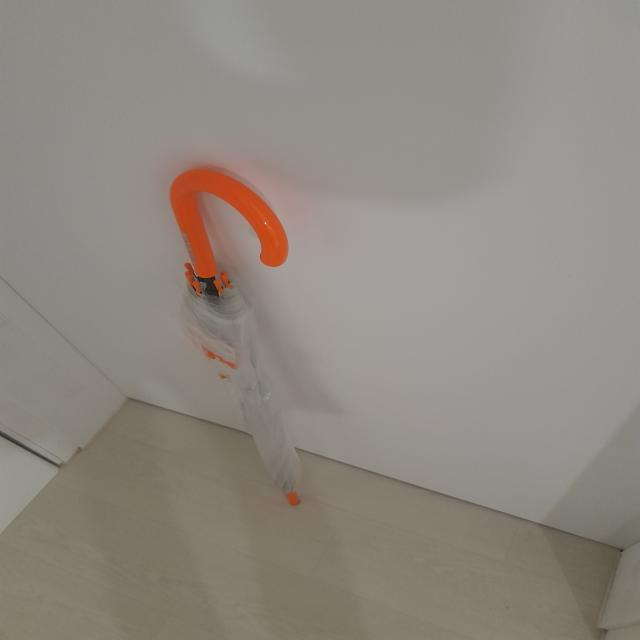umbrella: (170, 170, 306, 510)
